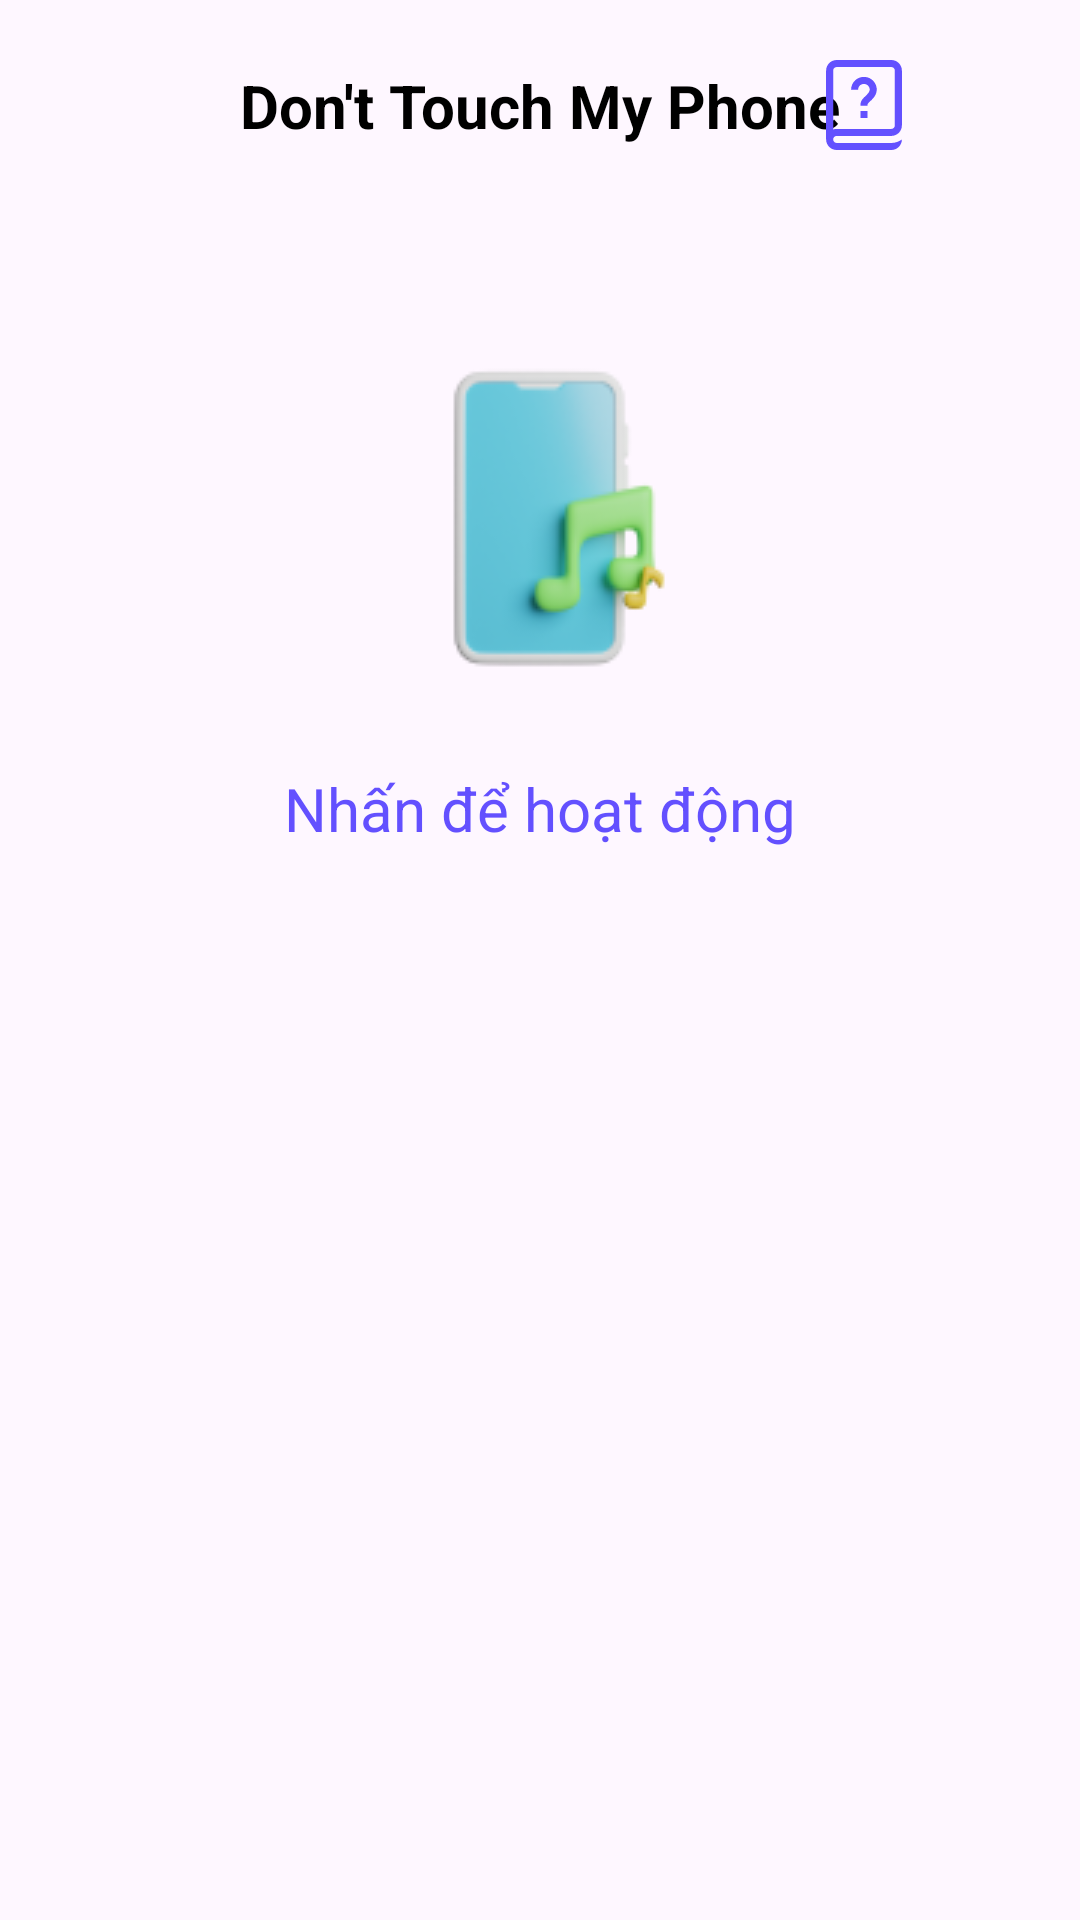

Icons on this 1080px×1920px Android screen, each with its box as (x1, y1, x2, y2):
phone music: (453, 372, 665, 666)
